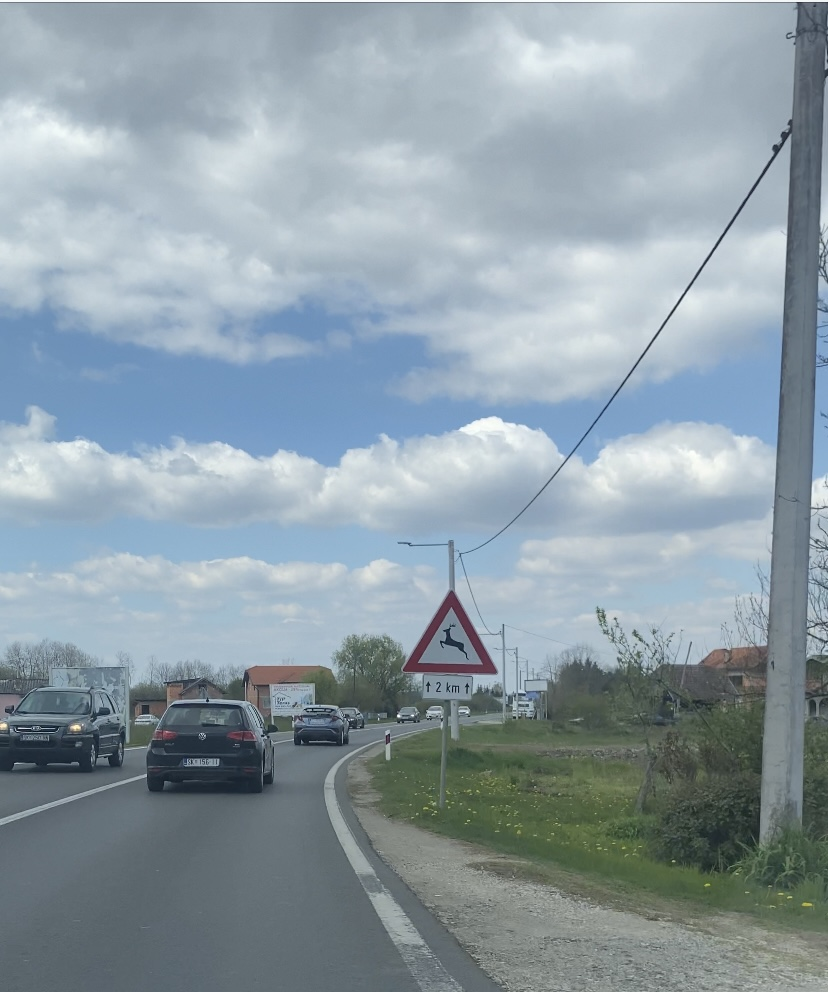Divljač na cesti: (402, 589, 498, 676)
